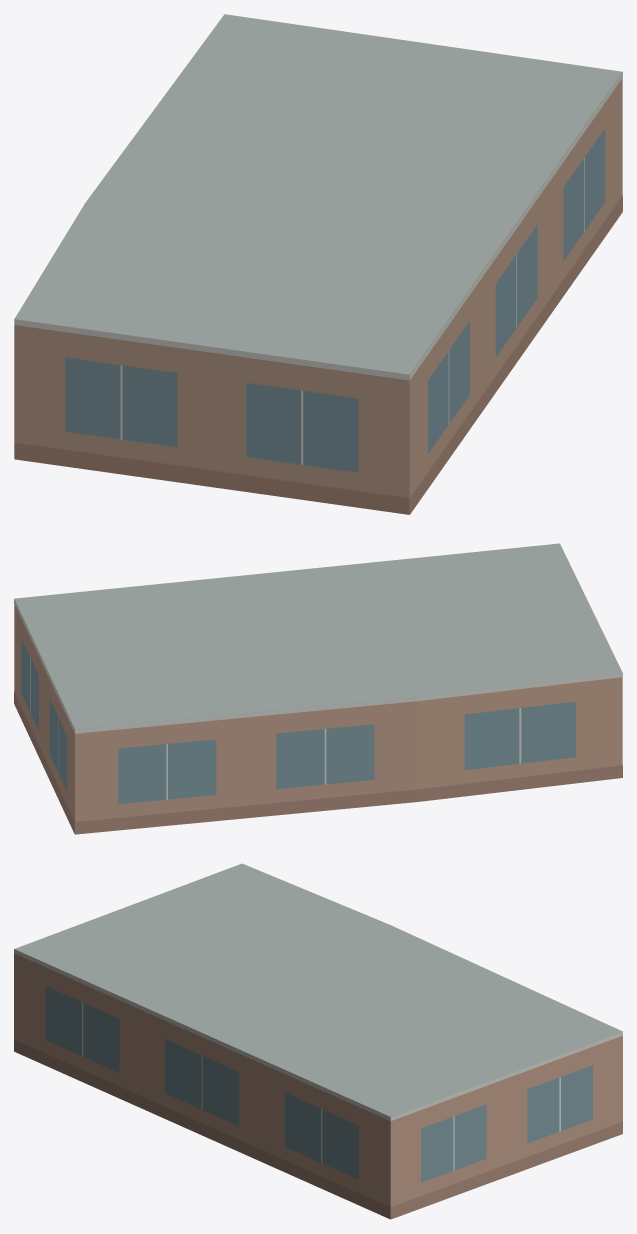
The model's file is survey-upis-32633566.glb.
3 renders of one model, top to bottom at view 1: azimuth 30°, elevation 25°; view 2: azimuth 150°, elevation 25°; view 3: azimuth 270°, elevation 25°, orthographic. The views are drawn at different scales.
Parts seen in each view (by area): view 1: survey-upis-32633566.tmp; view 2: survey-upis-32633566.tmp; view 3: survey-upis-32633566.tmp.
Part boxes in pixels (bbox=[...]): survey-upis-32633566.tmp: bbox=[14, 14, 622, 514]; survey-upis-32633566.tmp: bbox=[14, 543, 622, 834]; survey-upis-32633566.tmp: bbox=[14, 863, 622, 1219].
Bounding box in the file's own units: 16.19 × 3.05 × 16.43.
